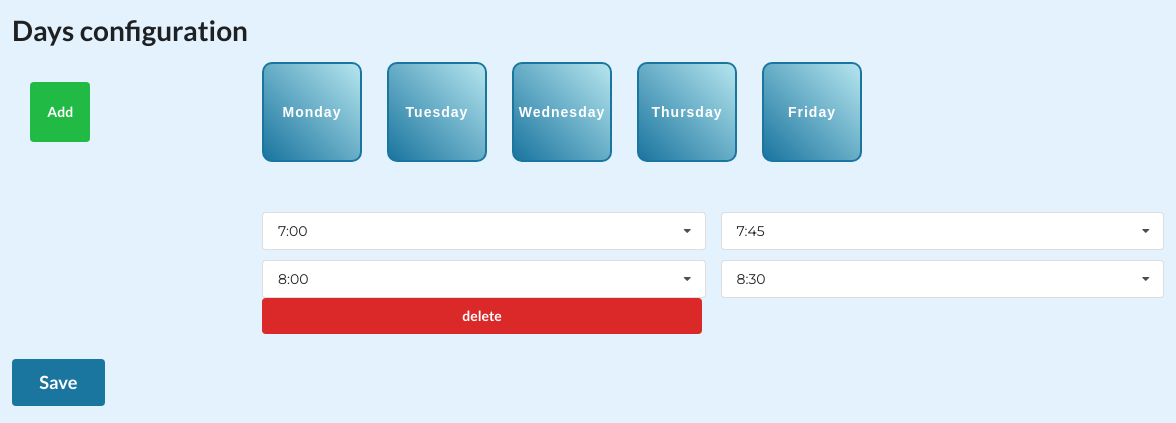
ConfigureDays › when renders › should allow the user to delete hour ranges
This screenshot has width=1176, height=423.
Expected: the number of elements with test id "day-hour-range" is 2, [262,212,1164,250]; [262,260,1164,334]
Click the button "delete" at (482, 316), box [262,298,702,334]
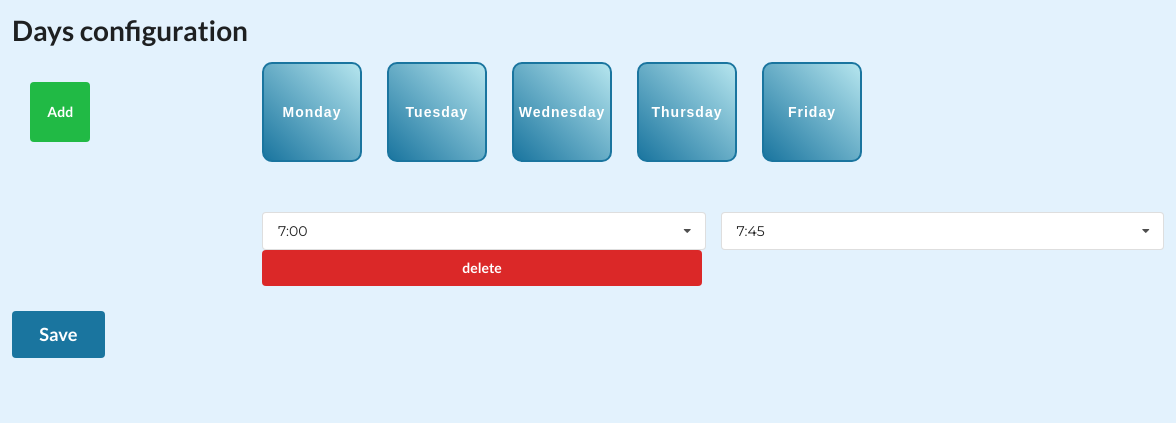
Expected: the number of elements with test id "day-hour-range" is 1, [262,212,1164,286]
